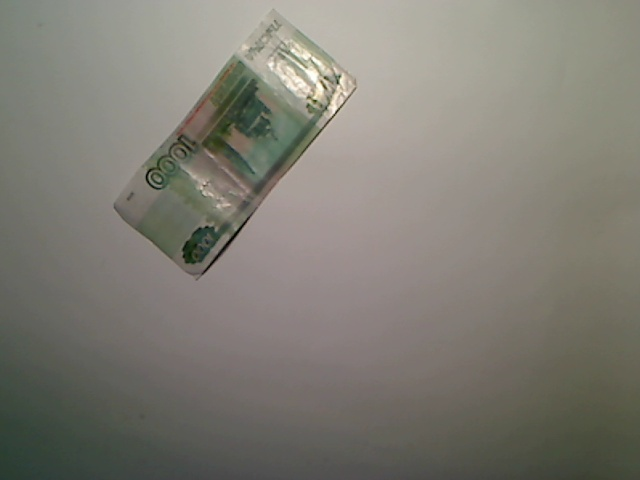banknotes: (105, 9, 365, 286)
